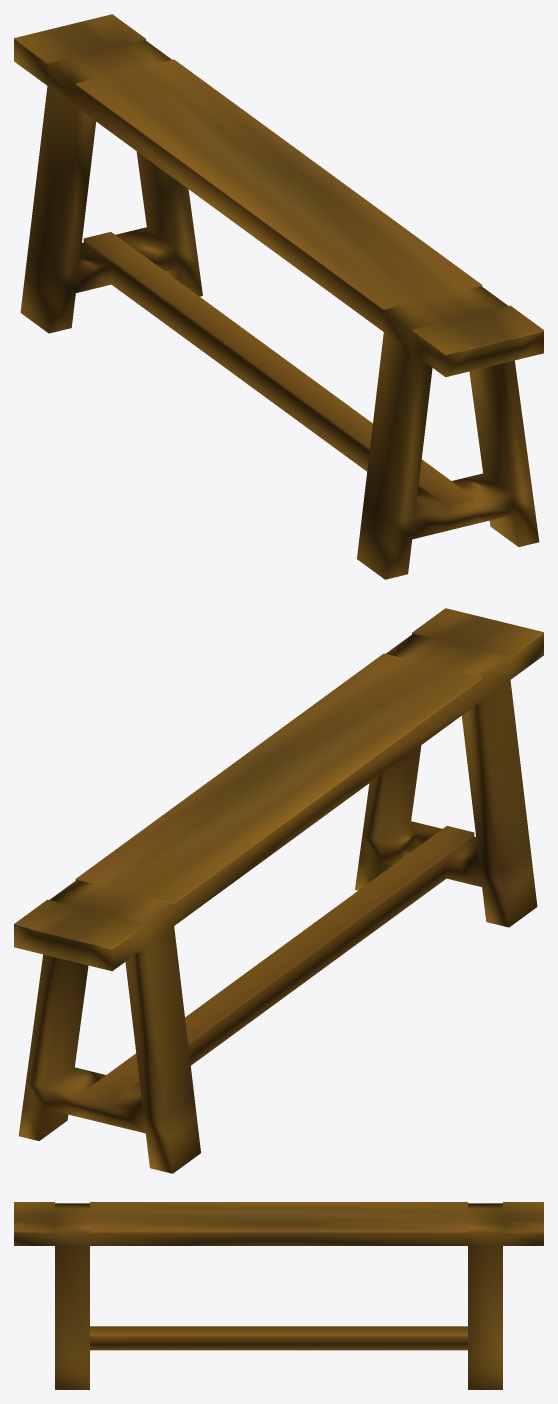
Rendered from kursiangkringon.fbx.
The picture shows the model from 3 angles, top to bottom: view 1: azimuth 30°, elevation 25°; view 2: azimuth 150°, elevation 25°; view 3: azimuth 270°, elevation 25°; orthographic projection. The views are drawn at different scales.
Visible parts, largest first — view 1: kursi; view 2: kursi; view 3: kursi.
Boxes of the visible parts, x1,y1,x2,y2 form: kursi: (14, 14, 543, 579); kursi: (14, 608, 543, 1173); kursi: (14, 1202, 543, 1389).
Bounding box in the file's own units: 0.3582 × 0.5409 × 1.74.
